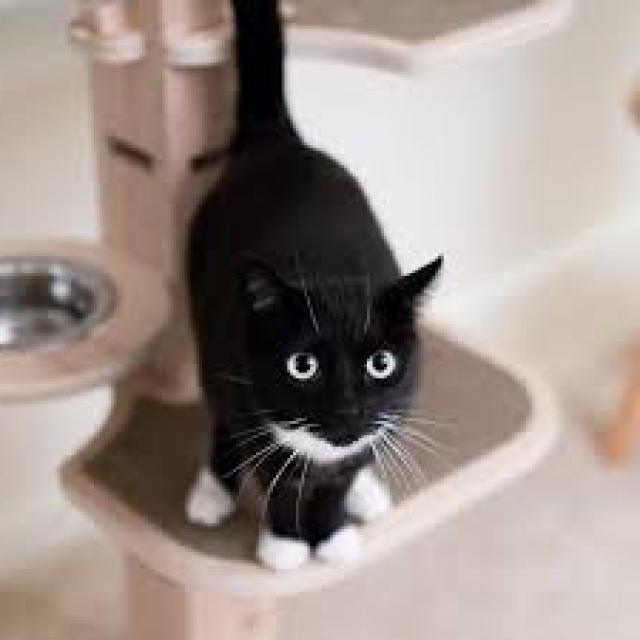black cat: (145, 4, 476, 578)
